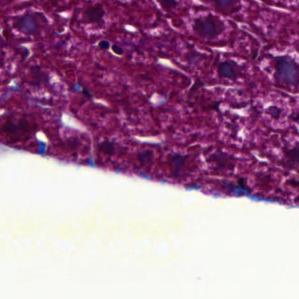inflammation: (214, 86, 249, 124)
